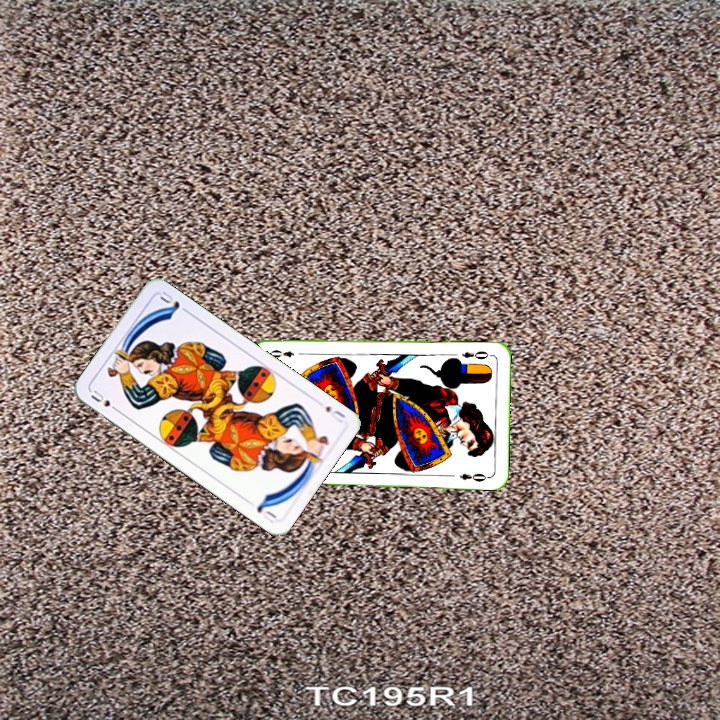EO: (458, 347, 495, 362)
SU: (87, 386, 123, 415), (321, 401, 348, 425)
